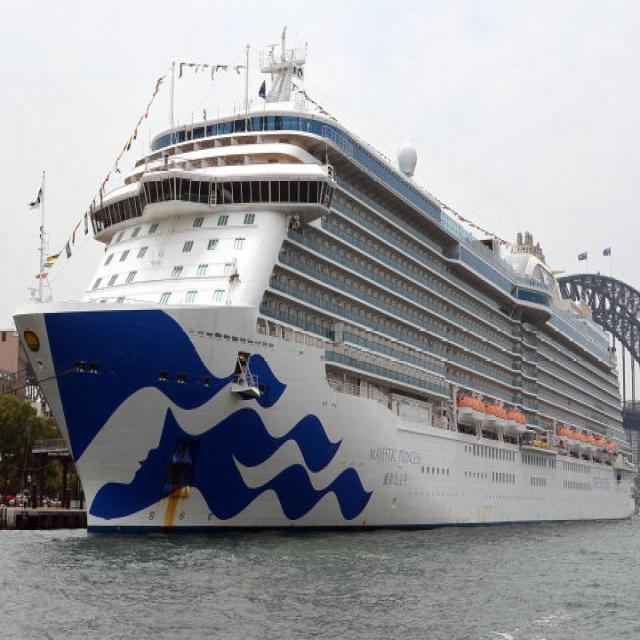cruises: (8, 21, 638, 550)
